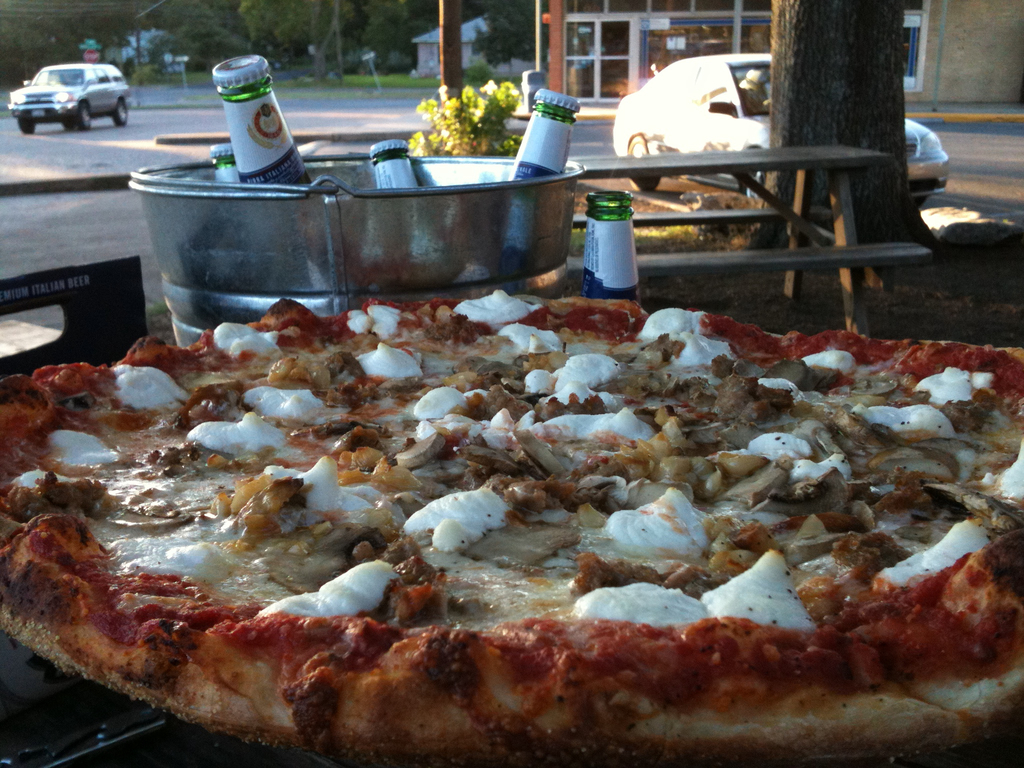Pizza: (18, 290, 1005, 755)
